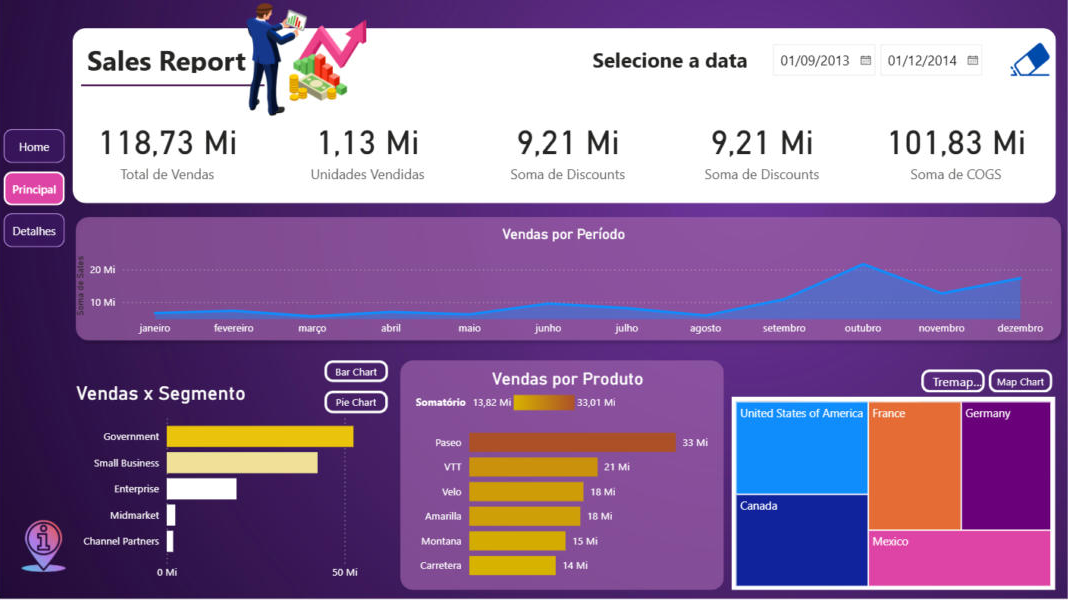

Layout of this report page (visuals, bound fields, positions):
{"tool":"powerbi","page":{"name":"Principal","canvas":[1280,720],"ordinal":1},"visuals":[{"type":"image","title":"fundo_purple","box":[0,0,1280.3,720],"z":0},{"type":"shape","box":[95.8,41.1,1161.3,206.6],"z":0,"group":"g4"},{"type":"shape","box":[90.5,255.5,1181.8,163.7],"z":0,"group":"g3"},{"type":"map","title":"Sales x Country","fields":{"Category":["financials.Country"],"Size":["Sum(financials. Sales)"]},"box":[873.8,476.1,382,228.1],"z":0,"group":"g1"},{"type":"shape","box":[105.6,92.3,216.7,32.8],"z":1000,"group":"g4"},{"type":"areaChart","title":"Vendas por Período","fields":{"Category":["financials.Date.Variation.Hierarquia de datas.Trimestre","financials.Date.Variation.Hierarquia de datas.Mês"],"Y":["Sum(financials. Sales)"]},"box":[94.3,274.7,1163.2,139.7],"z":1000,"group":"g3"},{"type":"clusteredBarChart","title":"Vendas x Segmento","fields":{"Category":["financials.Segment"],"Y":["Sum(financials. Sales)"]},"box":[94.9,459.3,383.9,242.3],"z":1000,"group":"g2"},{"type":"treemap","title":"Sales x Country","fields":{"Group":["financials.Country"],"Values":["Sum(financials. Sales)"]},"box":[873.8,477.5,382,228.1],"z":1000,"group":"g1"},{"type":"slicer","fields":{"Values":["financials.Date"]},"box":[909.9,50.5,272.2,55.6],"z":2000,"group":"g4"},{"type":"actionButton","title":"Botão - bar","box":[393.4,432.9,75.1,25.6],"z":2000,"group":"g2"},{"type":"shape","box":[482.9,433.4,382.2,271.3],"z":2000},{"type":"actionButton","title":"Botão - map","box":[1177.5,444.2,75.1,27.3],"z":2000,"group":"g1"},{"type":"textbox","box":[704.6,56.2,199.6,45.6],"z":3000,"group":"g4"},{"type":"group","id":"g1","title":"Sales x país","box":[873.8,444.2,382,261.4],"z":3000},{"type":"actionButton","title":"Botão - tremap","box":[1097.3,444.2,75.1,27.3],"z":3000,"group":"g1"},{"type":"actionButton","title":"Botão -pie","box":[393.2,469.1,74.8,26.6],"z":3000,"group":"g2"},{"type":"card","fields":{"Values":["Sum(financials.Units Sold)"]},"box":[338.3,130.3,211,105.5],"z":4000,"group":"g4"},{"type":"clusteredBarChart","title":"Vendas por Produto","fields":{"Category":["financials.Product"],"Y":["Sum(financials. Sales)"]},"box":[496.5,443.6,368.5,261.1],"z":4000},{"type":"textbox","box":[107,50.9,215.2,48.5],"z":5000,"group":"g4"},{"type":"group","id":"g2","title":"Sales x Segmento","box":[94.9,429.7,387.6,271.8],"z":5000},{"type":"actionButton","box":[1196.4,54.7,59.9,51.3],"z":6000,"group":"g4"},{"type":"group","id":"g3","title":"Perspectiva temporal das vendas","box":[90.5,255.5,1181.8,163.7],"z":6000},{"type":"group","id":"g4","title":"Filtro por data","box":[95.8,0,1161.8,247.5],"z":7000},{"type":"card","fields":{"Values":["Sum(financials.Discounts)"]},"box":[804.4,130.3,211,105.5],"z":7000,"group":"g4"},{"type":"image","title":"clean","box":[1196.4,50.5,59.9,55.6],"z":8000,"group":"g4"},{"type":"image","box":[26.1,615.8,71.5,72.9],"z":8000},{"type":"card","fields":{"Values":["Sum(financials.Discounts)"]},"box":[574.9,130.3,211,105.5],"z":9000,"group":"g4"},{"type":"actionButton","box":[31.6,615.8,63.2,72.9],"z":9000},{"type":"card","fields":{"Values":["Sum(financials.COGS)"]},"box":[1033.9,130.3,211,105.5],"z":10000,"group":"g4"},{"type":"card","fields":{"Values":["Sum(financials. Sales)"]},"box":[101.7,130.3,211,105.5],"z":11000,"group":"g4"},{"type":"image","box":[265.1,0,252.9,155.7],"z":12000,"group":"g4"},{"type":"actionButton","title":"Menu - Home","box":[14,160,72,40],"z":20000},{"type":"actionButton","title":"Menu - Principal","box":[14,210,72,40],"z":20010},{"type":"actionButton","title":"Menu - Detalhes","box":[14,260,72,40],"z":20020}]}

Visuals, with their boxes in screenshot pixels (x1, y1, x2, y2), scaled from the page's 1280x720 canvas onto the 1068x600 screenshot:
"fundo_purple" image: l=0, t=0, r=1067, b=599
shape: l=80, t=34, r=1049, b=206
shape: l=76, t=213, r=1062, b=349
"Sales x Country" map: l=729, t=397, r=1048, b=587
shape: l=88, t=77, r=269, b=104
"Vendas por Período" areaChart: l=79, t=229, r=1049, b=345
"Vendas x Segmento" clusteredBarChart: l=79, t=383, r=399, b=585
"Sales x Country" treemap: l=729, t=398, r=1048, b=588
slicer - financials.Date: l=759, t=42, r=986, b=88
"Botão - bar" actionButton: l=328, t=361, r=391, b=382
shape: l=403, t=361, r=722, b=587
"Botão - map" actionButton: l=982, t=370, r=1045, b=393
textbox: l=588, t=47, r=754, b=85
"Sales x país" group: l=729, t=370, r=1048, b=588
"Botão - tremap" actionButton: l=916, t=370, r=978, b=393
"Botão -pie" actionButton: l=328, t=391, r=390, b=413
card - Sum(financials.Units Sold): l=282, t=109, r=458, b=197
"Vendas por Produto" clusteredBarChart: l=414, t=370, r=722, b=587
textbox: l=89, t=42, r=269, b=83
"Sales x Segmento" group: l=79, t=358, r=403, b=585
actionButton: l=998, t=46, r=1048, b=88
"Perspectiva temporal das vendas" group: l=76, t=213, r=1062, b=349
"Filtro por data" group: l=80, t=0, r=1049, b=206
card - Sum(financials.Discounts): l=671, t=109, r=847, b=197
"clean" image: l=998, t=42, r=1048, b=88
image: l=22, t=513, r=81, b=574
card - Sum(financials.Discounts): l=480, t=109, r=656, b=197
actionButton: l=26, t=513, r=79, b=574
card - Sum(financials.COGS): l=863, t=109, r=1039, b=197
card - Sum(financials. Sales): l=85, t=109, r=261, b=197
image: l=221, t=0, r=432, b=130
"Menu - Home" actionButton: l=12, t=133, r=72, b=167
"Menu - Principal" actionButton: l=12, t=175, r=72, b=208
"Menu - Detalhes" actionButton: l=12, t=217, r=72, b=250
